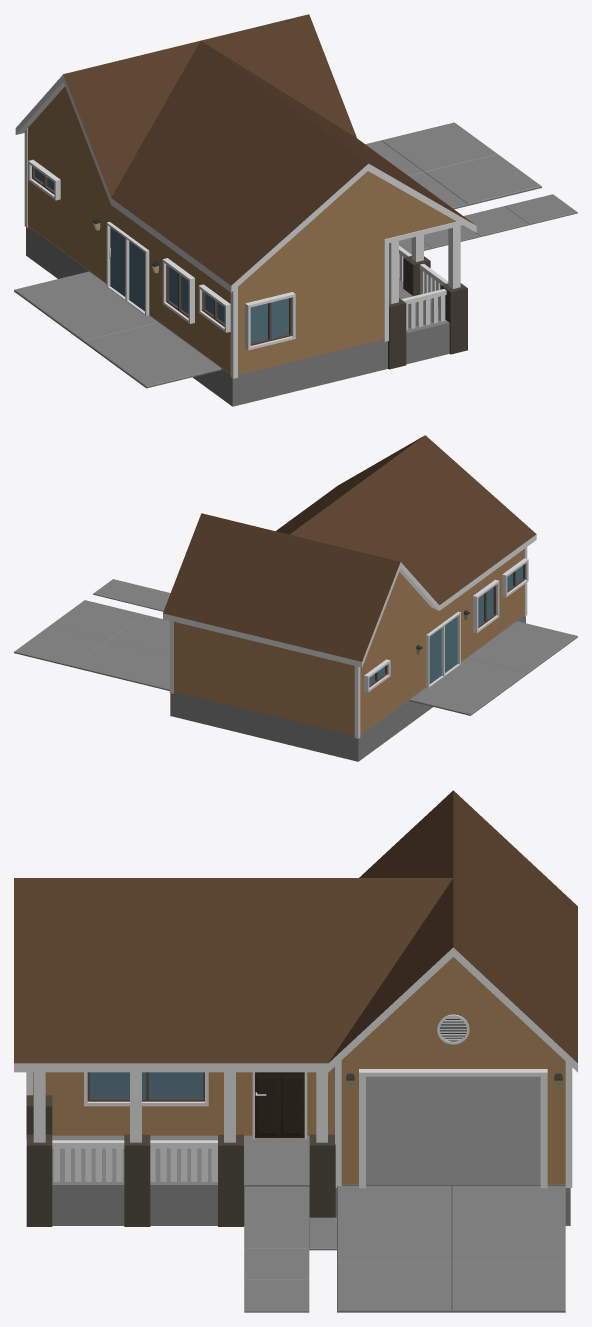
Rendered from Proto_HouseSmall_Orange.fbx.
3 views of the same model, one above another, from view 1: azimuth 30°, elevation 25°; view 2: azimuth 150°, elevation 25°; view 3: azimuth 270°, elevation 25° (orthographic). The views are drawn at different scales.
Visible parts, largest first — view 1: HouseSmall_Orange1; view 2: HouseSmall_Orange1; view 3: HouseSmall_Orange1.
Part boxes in pixels (left/top/right/bottom): HouseSmall_Orange1: left=14, top=14, right=577, bottom=406; HouseSmall_Orange1: left=14, top=435, right=577, bottom=761; HouseSmall_Orange1: left=14, top=790, right=577, bottom=1312.
Size of the model in its own units: 32.35 by 13.28 by 24.02.
